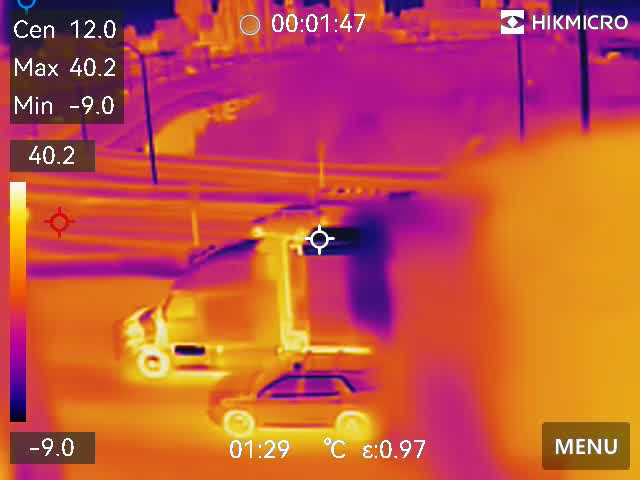heavyTruck: (101, 231, 419, 373)
largeCar: (200, 361, 383, 446)
vehicle: (249, 203, 322, 233)
